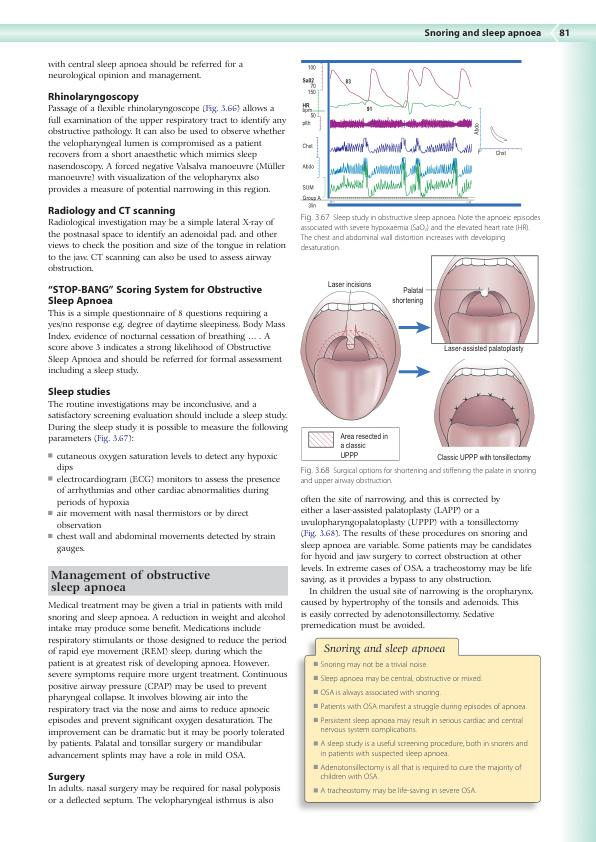caption: (299, 212, 541, 252), (300, 465, 537, 485), (323, 642, 446, 656)
header: (424, 27, 541, 39)
image: (298, 253, 540, 464), (296, 53, 529, 210)
list: (311, 660, 529, 796), (46, 451, 282, 556)
section-heading: (50, 568, 211, 595)
sub-section-heading: (47, 284, 264, 307), (48, 205, 176, 217), (47, 91, 140, 103), (47, 386, 111, 398), (47, 771, 86, 783)
text: (46, 599, 288, 762), (298, 492, 536, 632), (47, 104, 287, 196), (46, 308, 287, 377), (47, 218, 286, 271), (47, 400, 289, 445), (48, 784, 281, 806), (47, 58, 245, 83)
